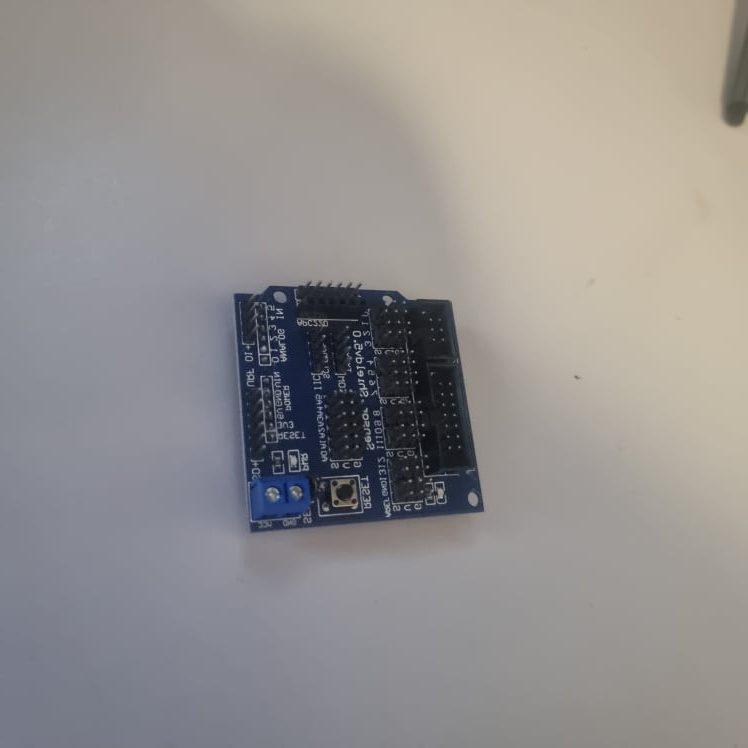5V EXPANSION: (233, 287, 485, 532)
